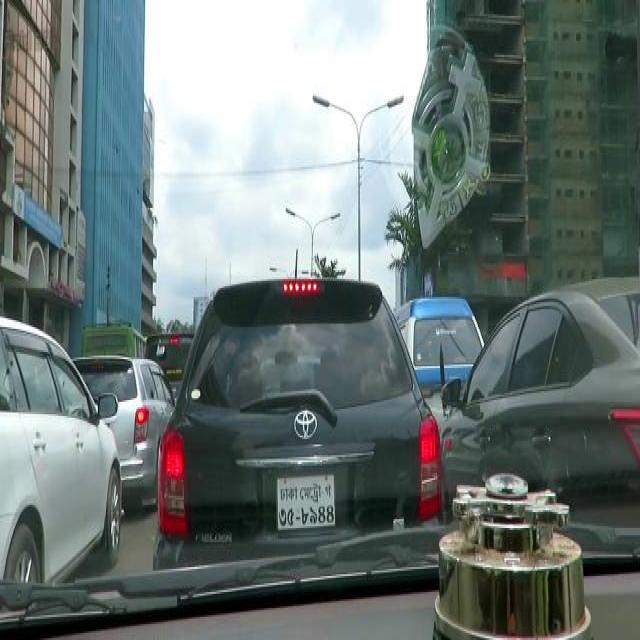19: (390, 294, 488, 396)
5: (155, 274, 449, 586), (432, 272, 638, 524), (0, 309, 125, 583), (71, 351, 179, 517)
Truck: (82, 318, 146, 361)
